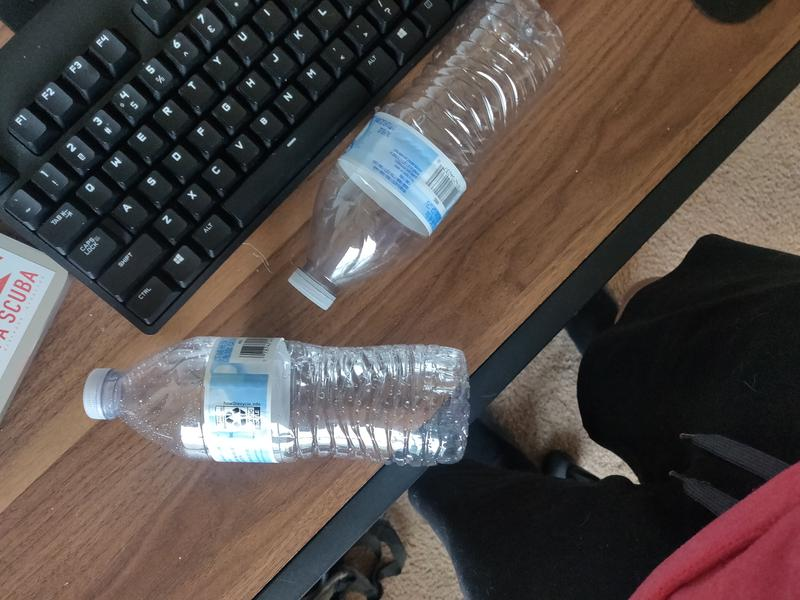bottle: (287, 1, 567, 312), (82, 335, 469, 466)
